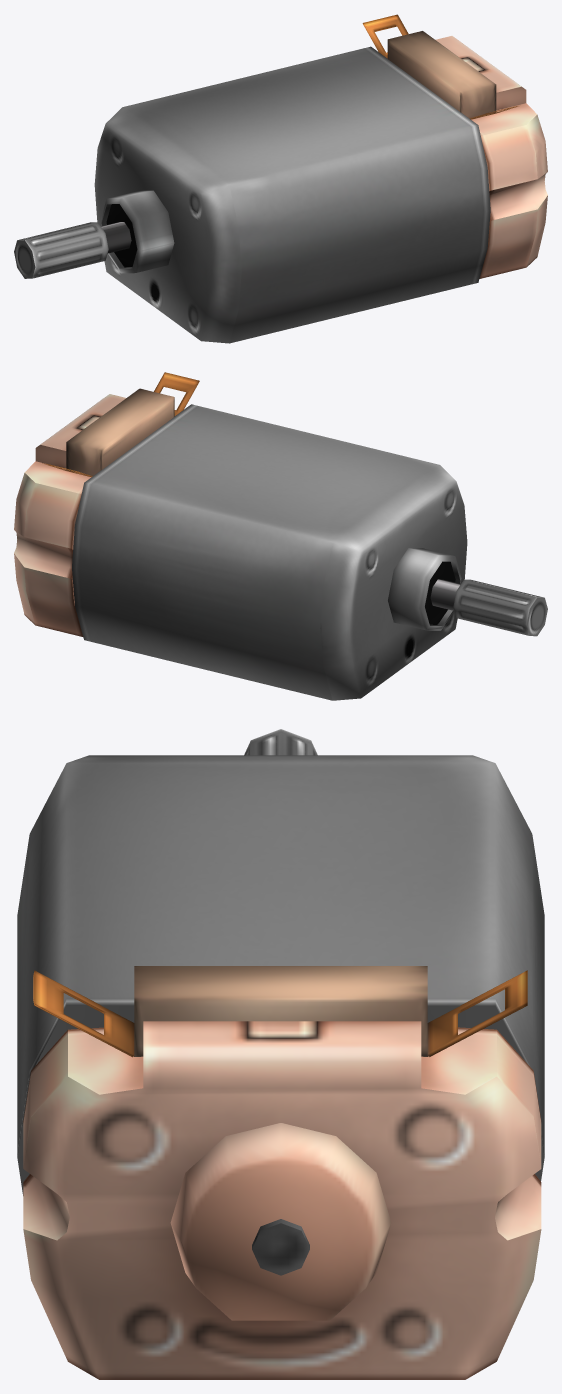
The model's file is motor01.FBX.
3 renders of one model, top to bottom at view 1: azimuth 30°, elevation 25°; view 2: azimuth 150°, elevation 25°; view 3: azimuth 270°, elevation 25°, orthographic. The views are drawn at different scales.
Visible parts, largest first — view 1: motor01; view 2: motor01; view 3: motor01.
Boxes of the visible parts, left/top/right/bottom form: motor01: left=14, top=14, right=547, bottom=343; motor01: left=14, top=372, right=547, bottom=700; motor01: left=17, top=729, right=544, bottom=1379.
Size of the model in its own units: 0.3723 by 0.1277 by 0.1722.
